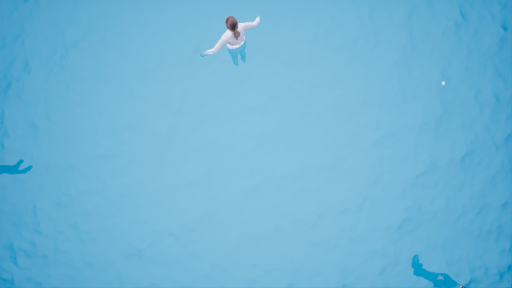person: (200, 18, 258, 73)
